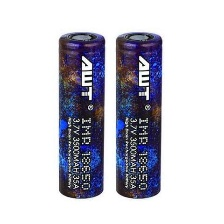battery: (56, 30, 107, 200), (113, 30, 163, 202)
